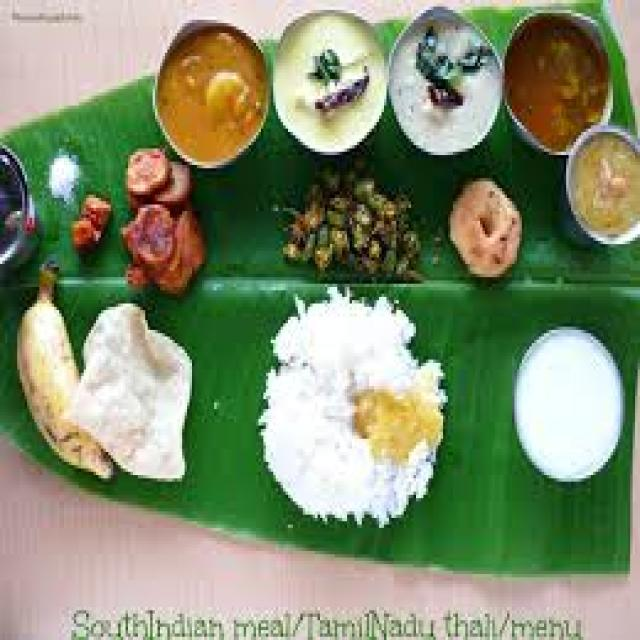curd: (506, 322, 637, 486)
dal: (144, 11, 281, 180)
pickle: (67, 200, 115, 263)
rice: (253, 296, 454, 539), (62, 295, 201, 487)
sambar-rasam: (145, 12, 279, 177), (263, 16, 390, 159), (502, 13, 610, 153), (569, 133, 638, 239)
sweet: (269, 15, 392, 159), (443, 177, 527, 271), (565, 133, 640, 238)
